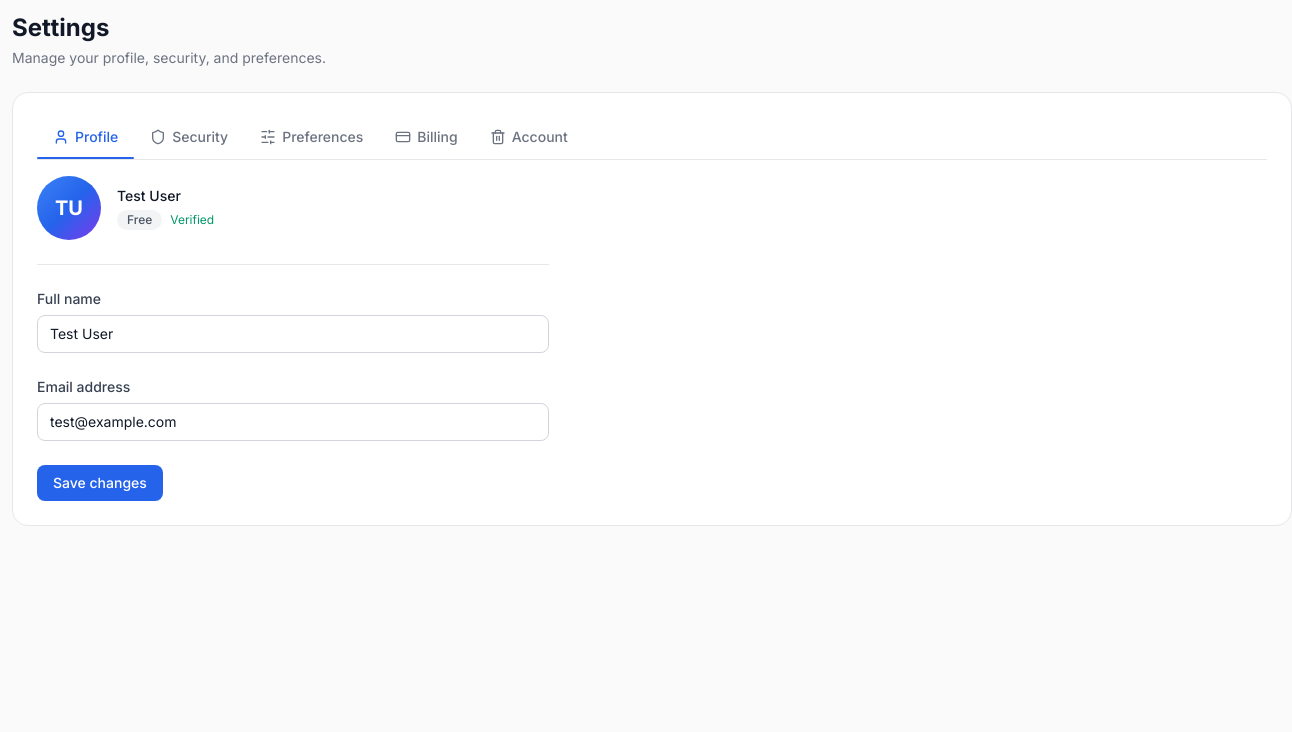
Scenario: SettingsPage › Profile tab › shows toast when no changes to save
Click the button "Save changes" at {"x": 100, "y": 483}, box 37,465 -> 163,501
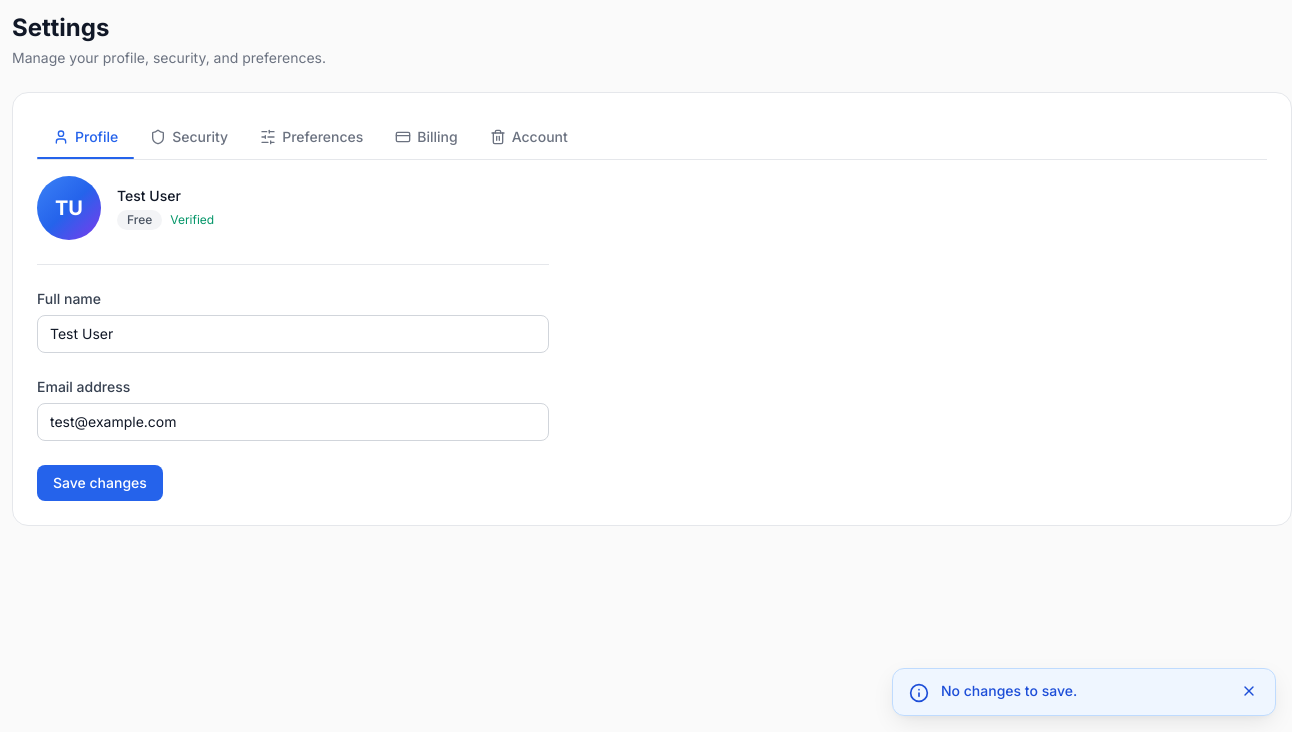
Expected: the text "No changes to save." is shown, 941,682 -> 1077,699
